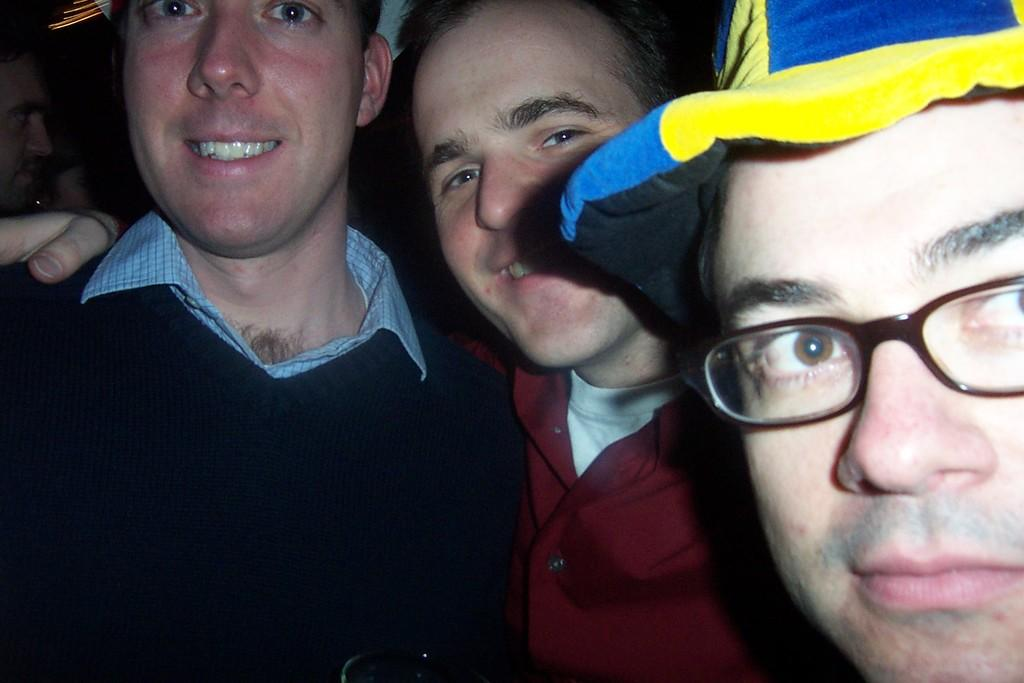Hat: (562, 0, 1024, 362)
